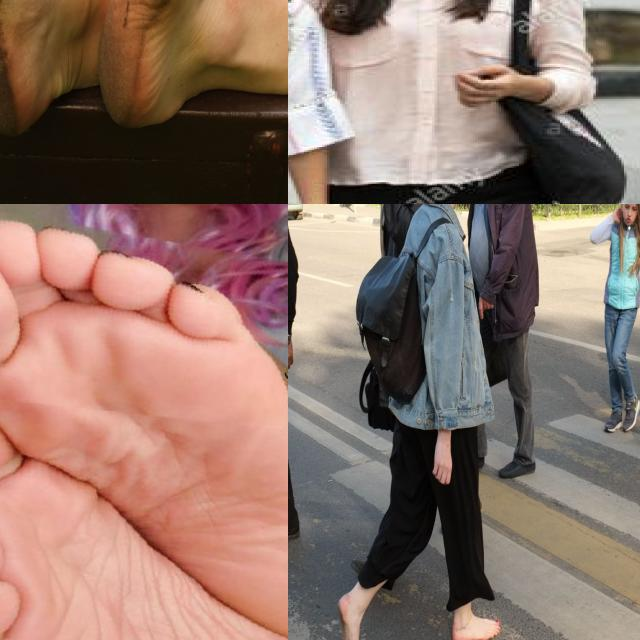Barefoots: (0, 218, 288, 639), (0, 428, 288, 640), (76, 0, 211, 129), (338, 594, 365, 640), (452, 615, 500, 640)
hand_noglove: (442, 60, 519, 108)
person: (311, 0, 601, 204)
